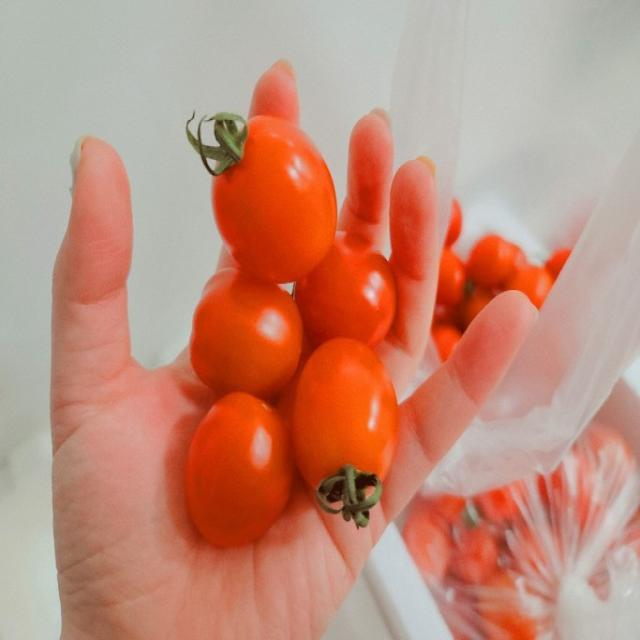level 5: (280, 338, 428, 500)
level 6: (187, 89, 346, 294), (175, 383, 294, 580), (175, 260, 308, 407), (279, 238, 416, 330)
